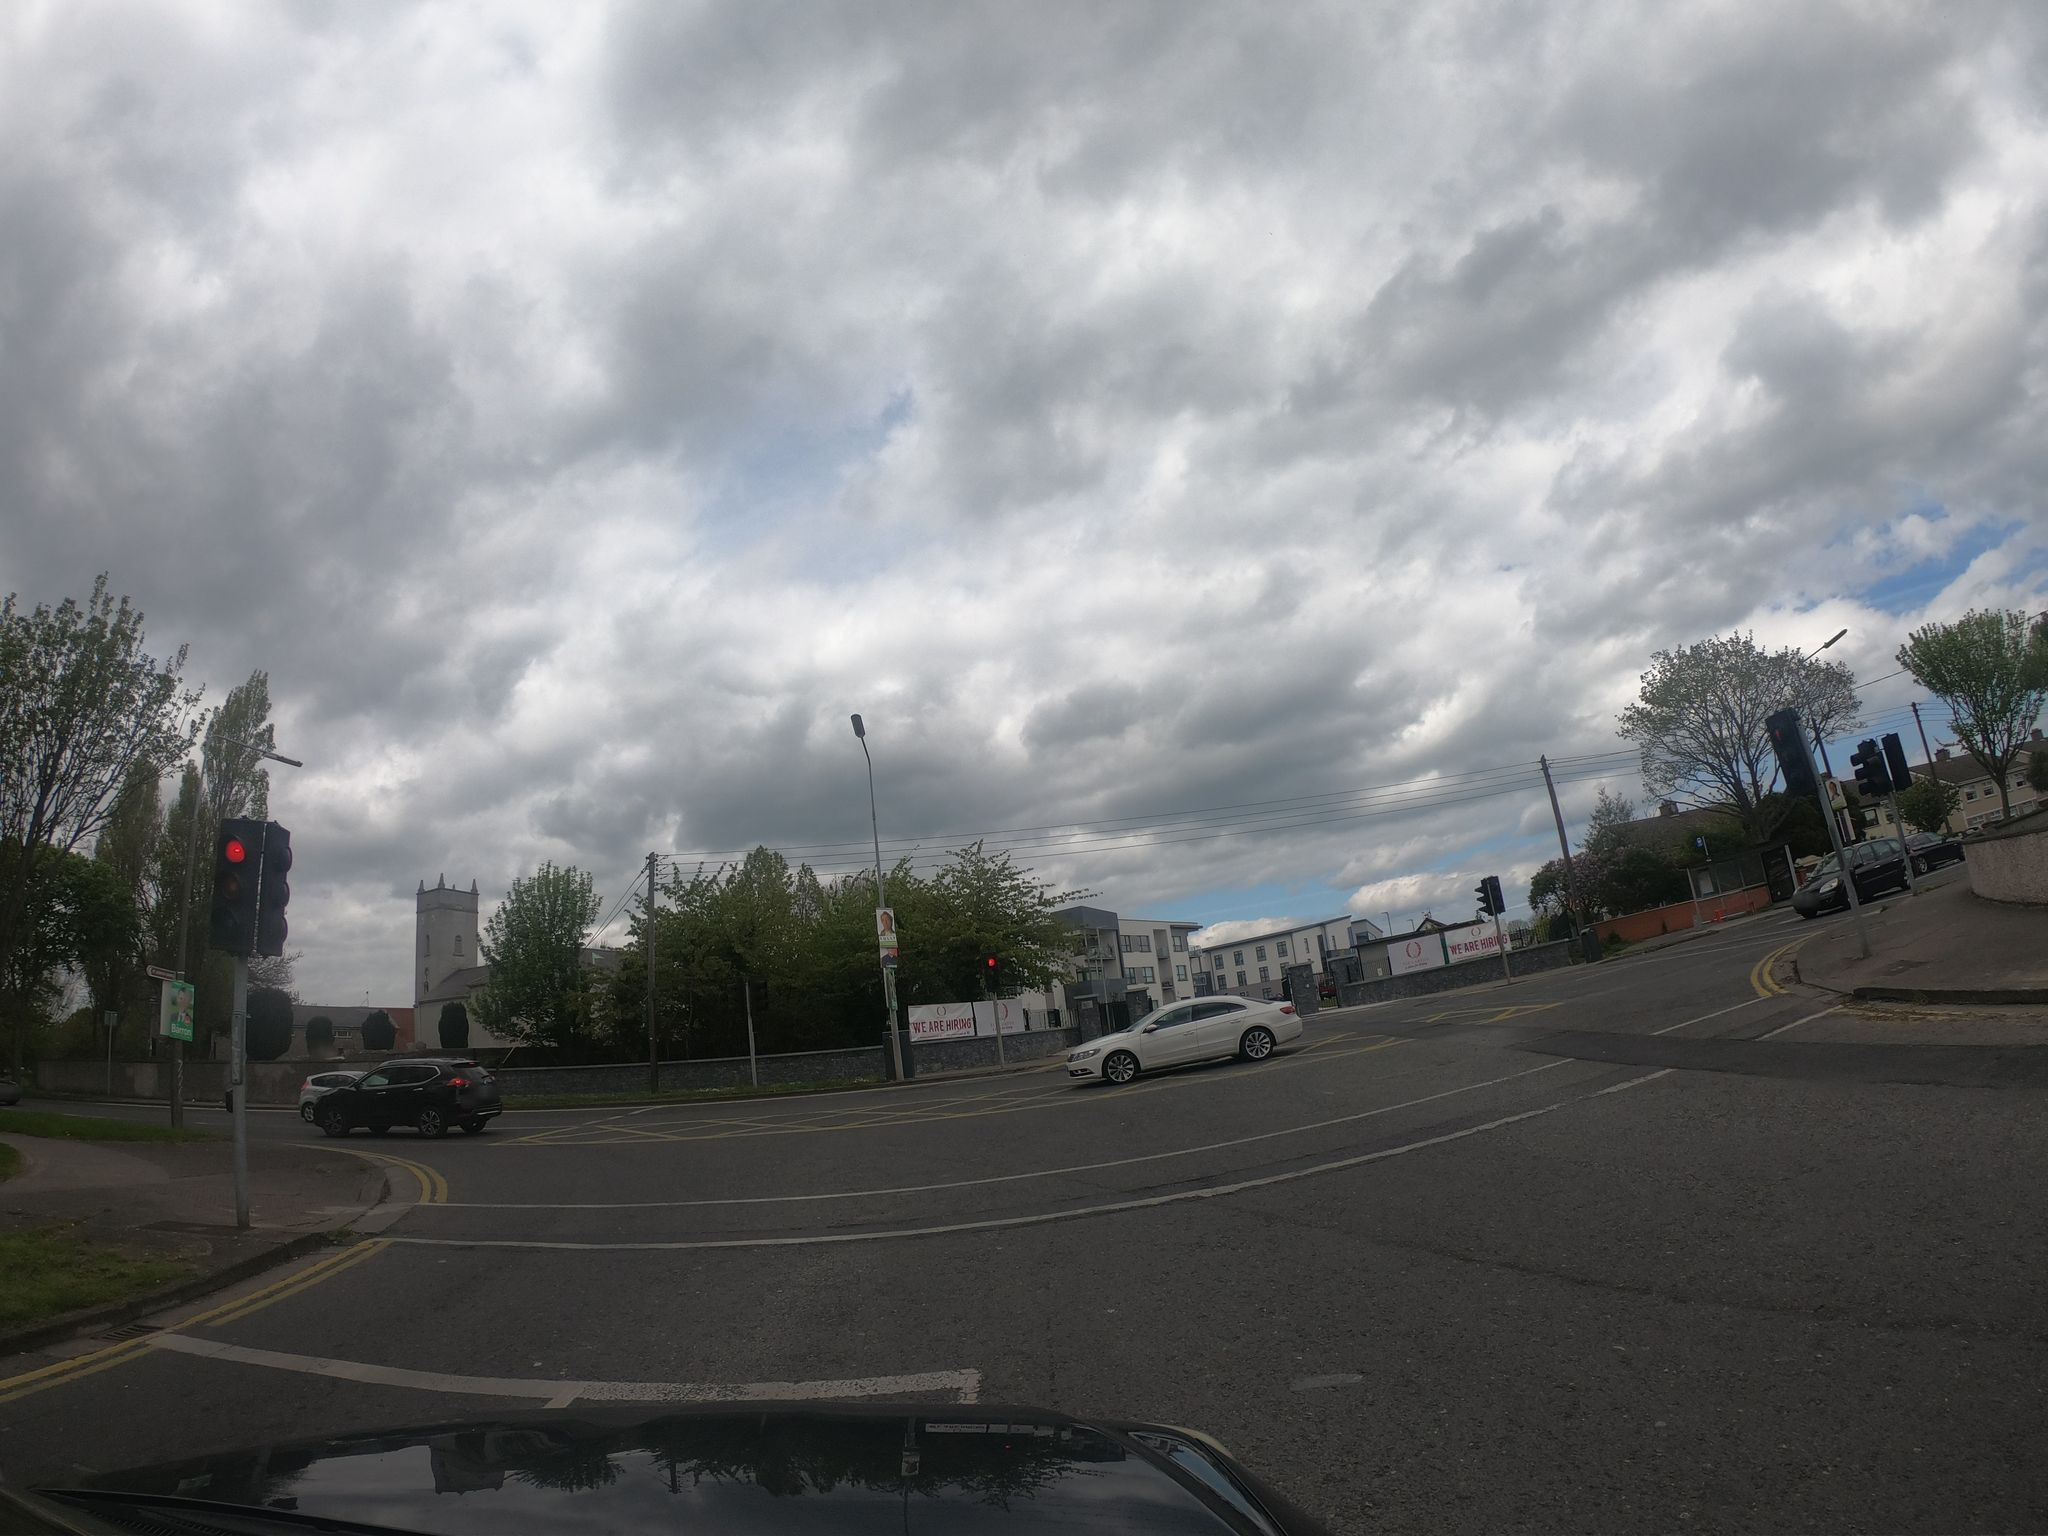vinyl banner: (893, 995, 984, 1060), (1438, 913, 1529, 971)
